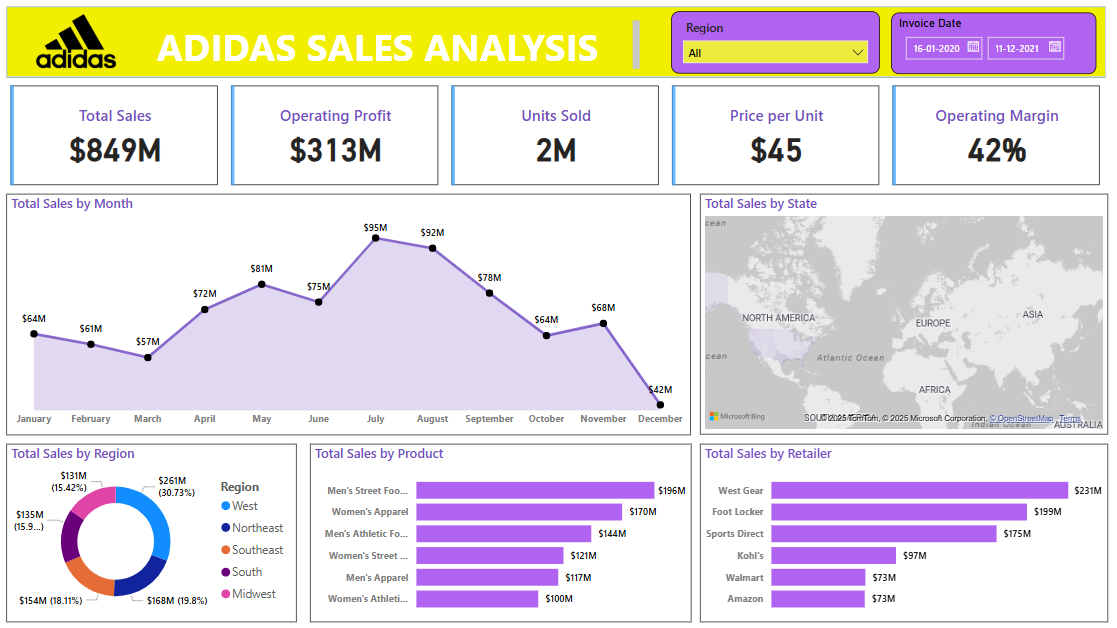

The page's visual inventory and layout, read from the dashboard file:
{"tool":"powerbi","page":{"name":"Page 1","canvas":[1280,720],"ordinal":0},"visuals":[{"type":"shape","box":[9.8,6.1,1258.3,80.7],"z":0},{"type":"textbox","box":[151.6,13.5,571.1,64.8],"z":1000},{"type":"cardVisual","fields":{"Data":["Sum(Data Sales Adidas.Total Sales)","Sum(Data Sales Adidas.Operating Profit)","Sum(Data Sales Adidas.Units Sold)","Avg(Data Sales Adidas.Price per Unit)","Avg(Data Sales Adidas.Operating Margin)"]},"box":[10.6,92.7,1258.3,124.9],"z":2000},{"type":"areaChart","title":"Total Sales by Month","fields":{"Category":["Data Sales Adidas.Invoice Date.Variation.Date Hierarchy.Month"],"Y":["Sum(Data Sales Adidas.Total Sales)"]},"box":[11,221.7,782,276],"z":3000},{"type":"filledMap","title":"Total Sales by State","fields":{"Category":["Data Sales Adidas.State"]},"box":[802.6,221.7,466.7,275],"z":4000},{"type":"donutChart","title":"Total Sales by Region","fields":{"Category":["Data Sales Adidas.Region"],"Y":["Sum(Data Sales Adidas.Total Sales)"]},"box":[11,507.7,332,204],"z":5000},{"type":"barChart","title":"Total Sales by Product","fields":{"Category":["Data Sales Adidas.Product"],"Y":["Sum(Data Sales Adidas.Total Sales)"]},"box":[357,507.7,436,204],"z":6000},{"type":"barChart","title":"Total Sales by Retailer","fields":{"Y":["Sum(Data Sales Adidas.Total Sales)"],"Category":["Data Sales Adidas.Retailer"]},"box":[803,507.7,466,204],"z":7000},{"type":"slicer","fields":{"Values":["Data Sales Adidas.Region"]},"box":[770.4,6.1,236,70.9],"z":8000},{"type":"slicer","title":"Invoice Date","fields":{"Values":["Data Sales Adidas.Invoice Date"]},"box":[1022.3,8.6,232.3,68.5],"z":9000},{"type":"image","box":[11,11,117.4,70.9],"z":10000}]}

Visuals, with their boxes in screenshot pixels (x1, y1, x2, y2), scaled from the page's 1280x720 canvas onto the 1117x628 screenshot:
shape: (x1=9, y1=5, x2=1107, y2=76)
textbox: (x1=132, y1=12, x2=631, y2=68)
cardVisual - Sum(Data Sales Adidas.Total Sales) x Sum(Data Sales Adidas.Operating Profit): (x1=9, y1=81, x2=1107, y2=190)
"Total Sales by Month" areaChart: (x1=10, y1=193, x2=692, y2=434)
"Total Sales by State" filledMap: (x1=700, y1=193, x2=1108, y2=433)
"Total Sales by Region" donutChart: (x1=10, y1=443, x2=299, y2=621)
"Total Sales by Product" barChart: (x1=312, y1=443, x2=692, y2=621)
"Total Sales by Retailer" barChart: (x1=701, y1=443, x2=1107, y2=621)
slicer - Data Sales Adidas.Region: (x1=672, y1=5, x2=878, y2=67)
"Invoice Date" slicer: (x1=892, y1=8, x2=1095, y2=67)
image: (x1=10, y1=10, x2=112, y2=71)
